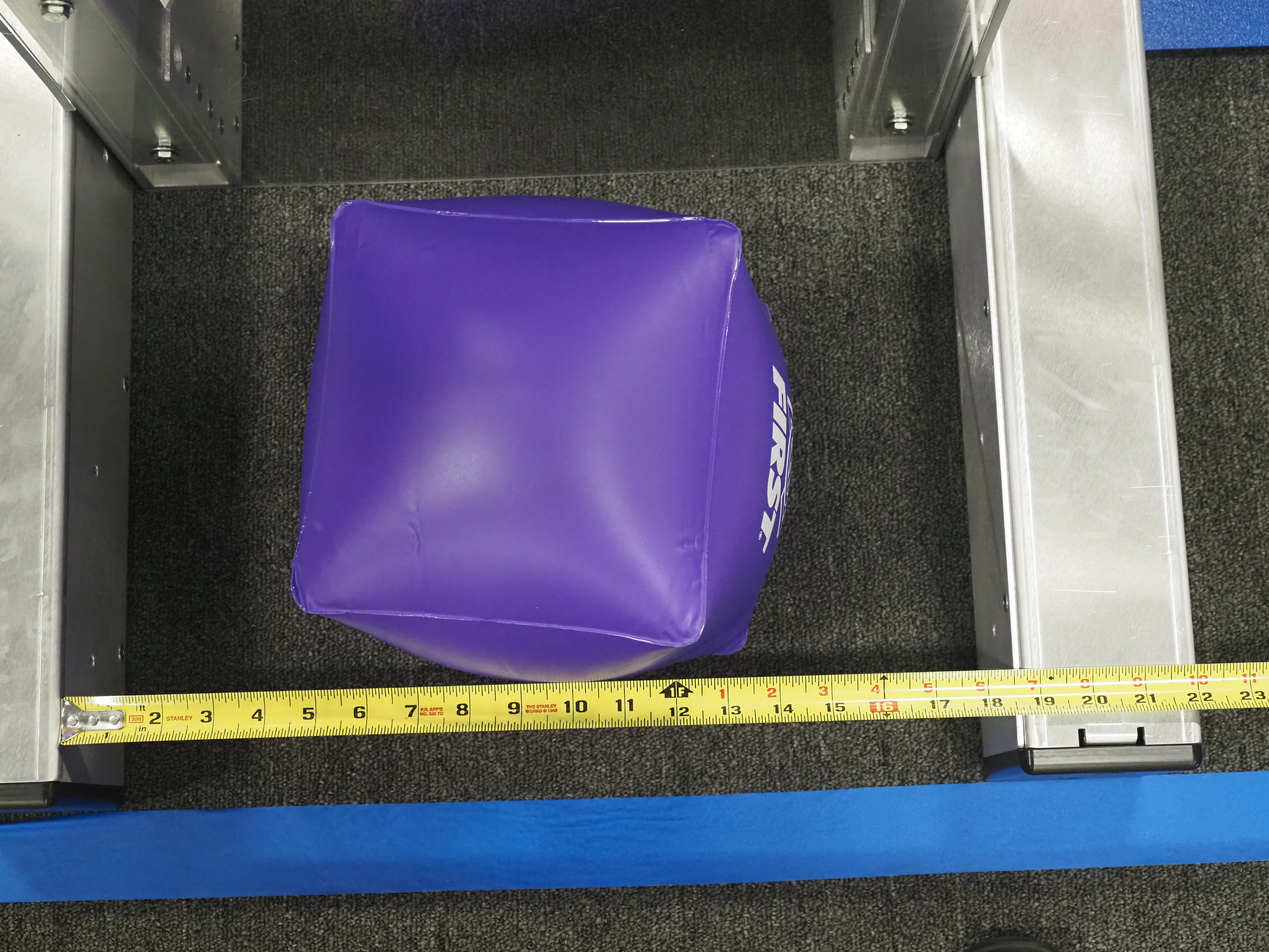cube: (283, 186, 811, 686)
